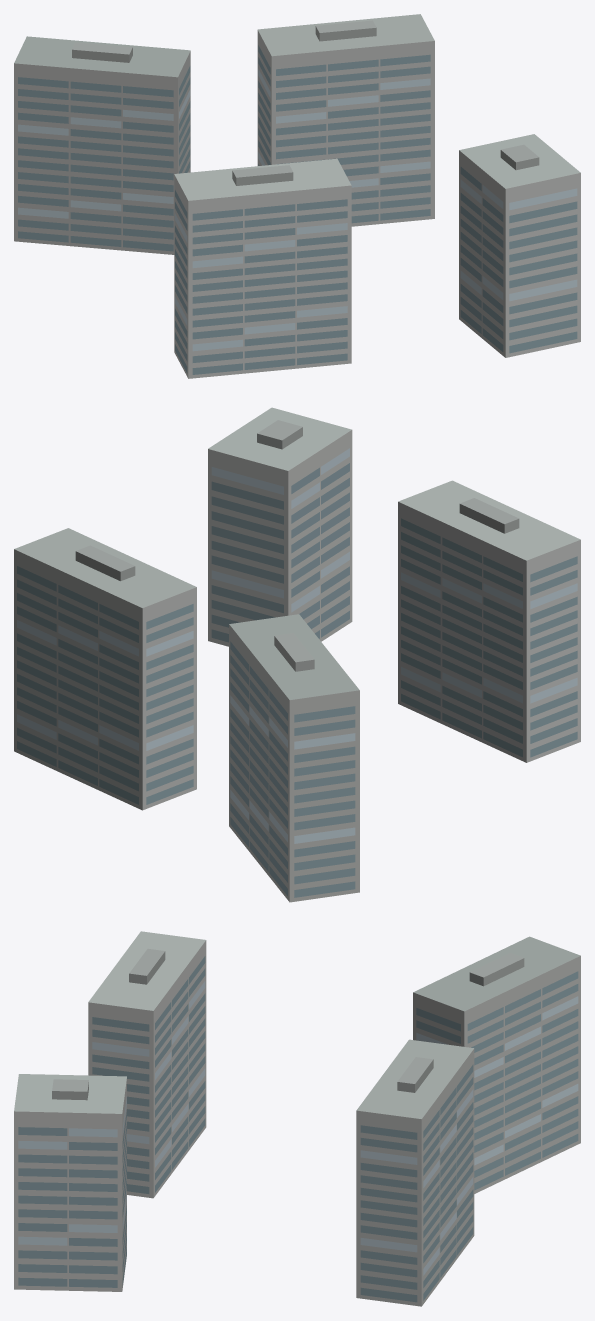
File: apt-a15722304.glb
3 renders of one model, top to bottom at view 1: azimuth 30°, elevation 25°; view 2: azimuth 150°, elevation 25°; view 3: azimuth 270°, elevation 25°, orthographic. The views are drawn at different scales.
Visible parts, largest first — view 1: apt-a15722304; view 2: apt-a15722304; view 3: apt-a15722304.
Boxes of the visible parts, x1,y1,x2,y2 form: apt-a15722304: [14, 14, 580, 378]; apt-a15722304: [14, 407, 580, 902]; apt-a15722304: [14, 931, 580, 1306].
Bounding box in the file's own units: 82.13 × 40 × 105.
